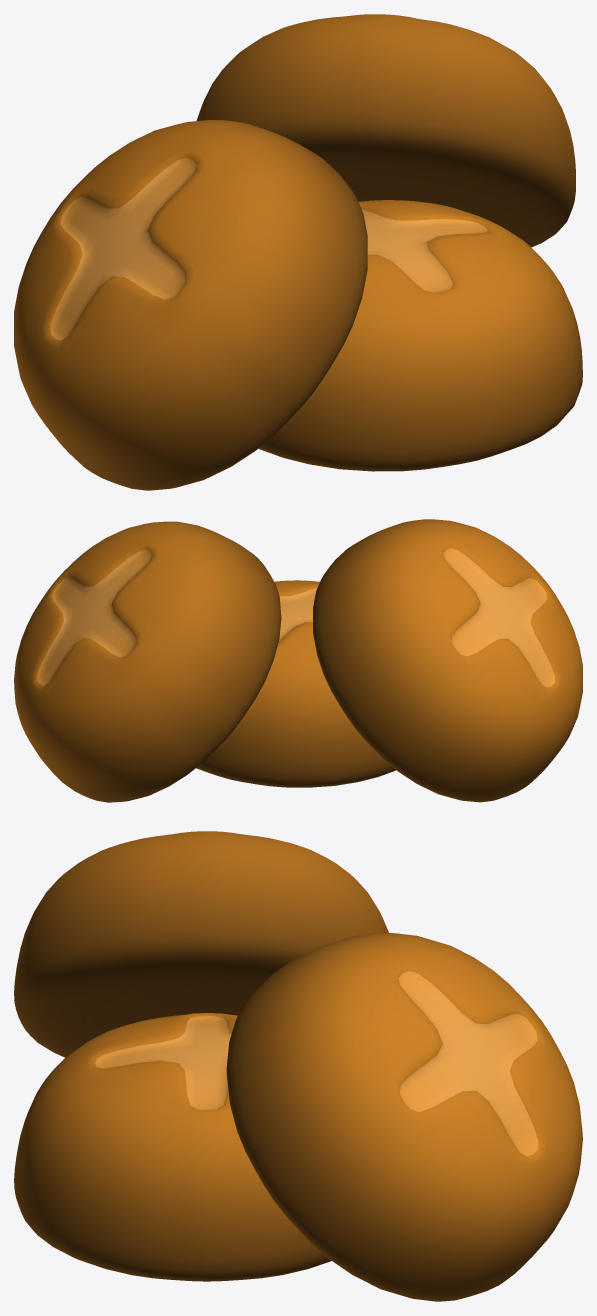
The model's file is Low_Bread.fbx.
3 renders of one model, top to bottom at view 1: azimuth 30°, elevation 25°; view 2: azimuth 150°, elevation 25°; view 3: azimuth 270°, elevation 25°, orthographic. The views are drawn at different scales.
Visible parts, largest first — view 1: Low_Bread; view 2: Low_Bread; view 3: Low_Bread.
Boxes of the visible parts, left/top/right/bottom form: Low_Bread: left=14, top=14, right=582, bottom=490; Low_Bread: left=14, top=519, right=582, bottom=802; Low_Bread: left=14, top=831, right=582, bottom=1301.
Bounding box in the file's own units: 21 × 10.2 × 17.39.
